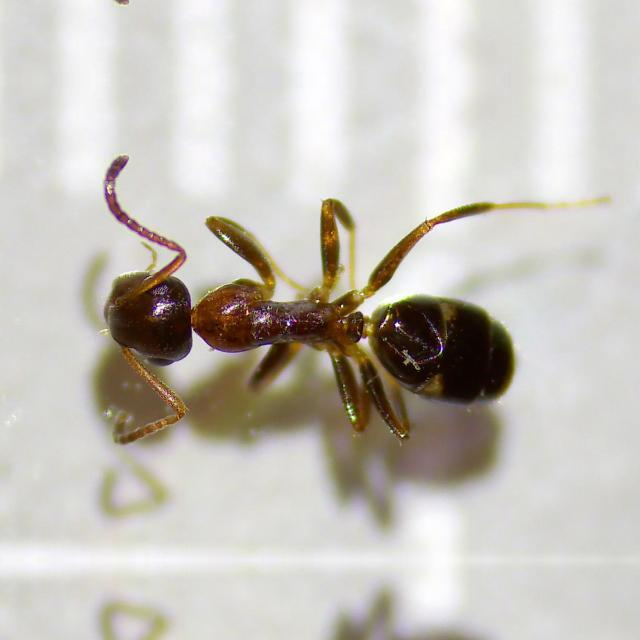Camponotus: (59, 213, 544, 444)
